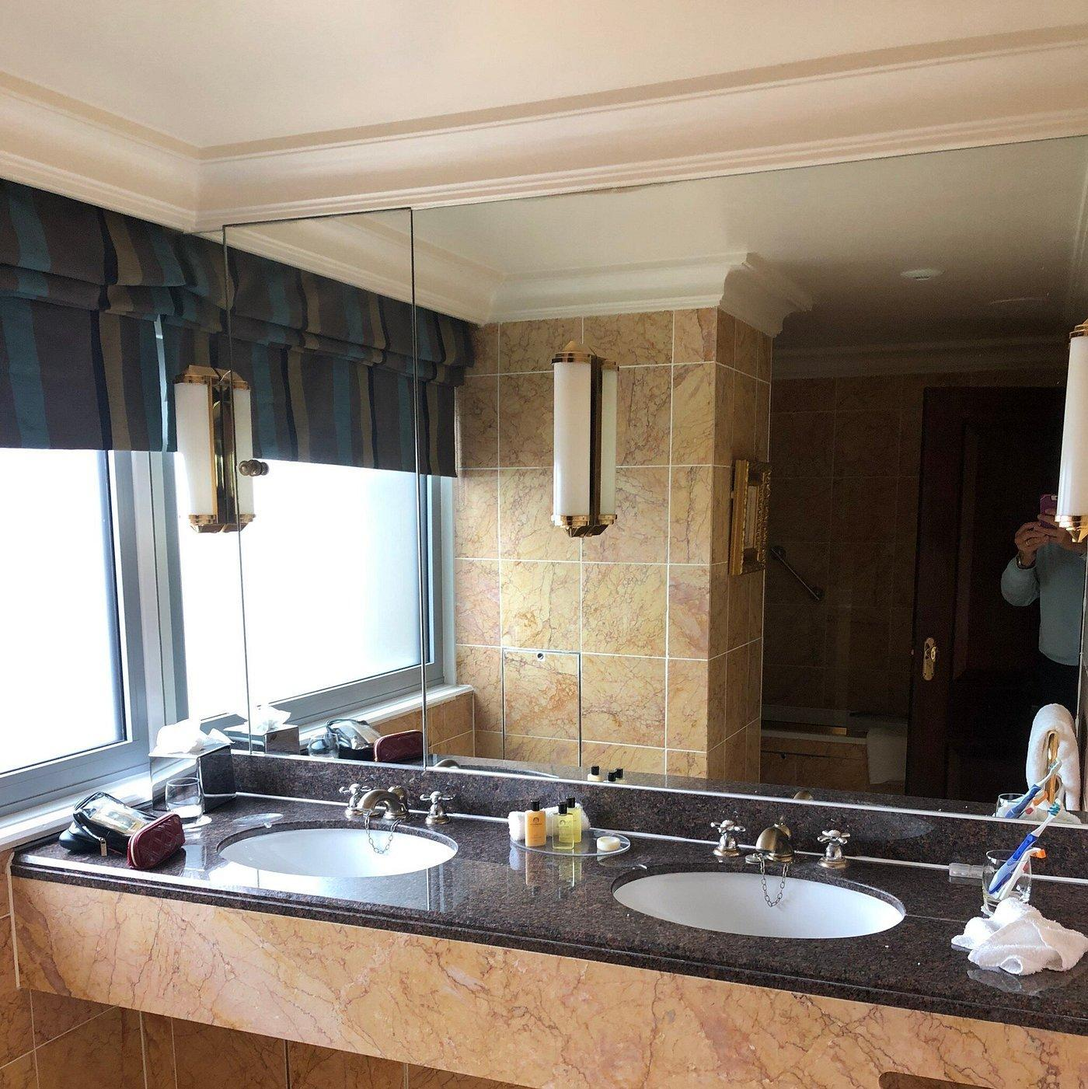clean_sink: (609, 813, 906, 965), (218, 780, 460, 889)
mess: (965, 808, 1088, 1012)
